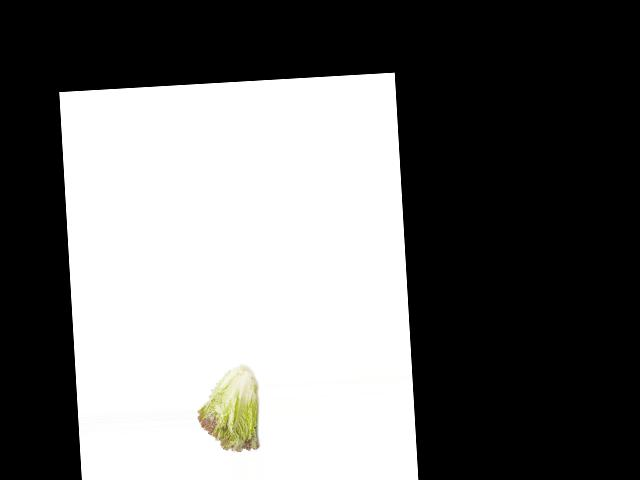lettuce: (196, 365, 260, 455)
